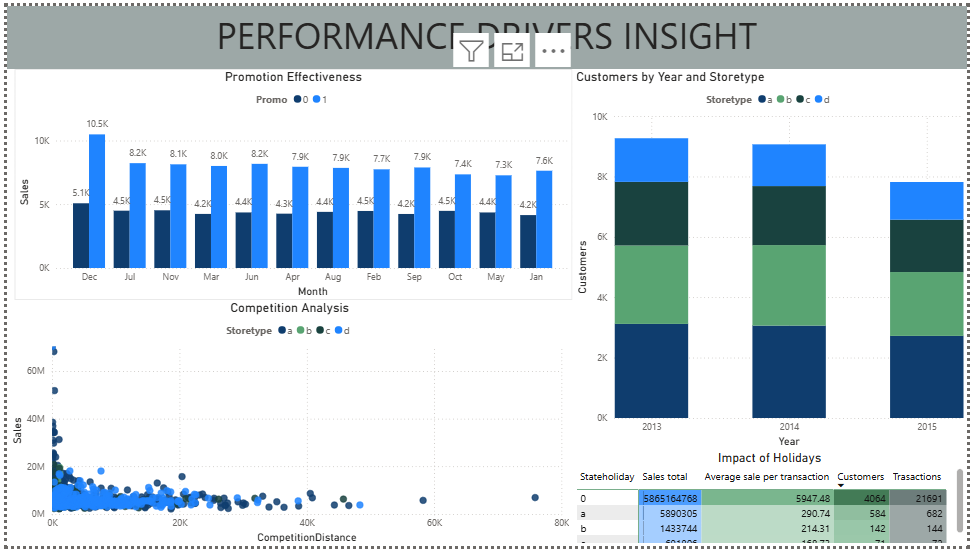

Layout of this report page (visuals, bound fields, positions):
{"tool":"powerbi","page":{"name":"Page 2","canvas":[1280,720],"ordinal":1},"visuals":[{"type":"textbox","box":[0,0,1280,84],"z":0},{"type":"clusteredColumnChart","title":"Promotion Effectiveness","fields":{"Category":["Dates.Month"],"Y":["Avg(Sales.sales)"],"Series":["Sales.promo"]},"box":[10,84,744,308],"z":1000},{"type":"pivotTable","title":"Impact of Holidays","fields":{"Rows":["Sales.stateholiday"],"Values":["Sum(Sales.sales)","Avg(Sales.sales)","Count(Sales.customers)","Count(Sales.sales)"]},"box":[754,592,526,128],"z":2000},{"type":"scatterChart","title":"Competition Analysis","fields":{"X":["Stores.competitiondistance"],"Y":["Sum(Sales.sales)"],"Series":["Stores.storetype"]},"box":[0,392,754,328],"z":3000},{"type":"columnChart","fields":{"Series":["Stores.storetype"],"Y":["Count(Sales.customers)"],"Category":["Dates.Year","Dates.Month"]},"box":[754,84,526,508],"z":4000}]}

Visuals, with their boxes on the page's 1280x720 design canvas (x1, y1, x2, y2). These are canvas units, not pixel positions in the 971x554 screenshot, which may show the page scaled, cropped or inside an application window:
textbox: rect(0, 0, 1280, 84)
"Promotion Effectiveness" clusteredColumnChart: rect(10, 84, 754, 392)
"Impact of Holidays" pivotTable: rect(754, 592, 1280, 720)
"Competition Analysis" scatterChart: rect(0, 392, 754, 720)
columnChart - Stores.storetype x Count(Sales.customers): rect(754, 84, 1280, 592)
